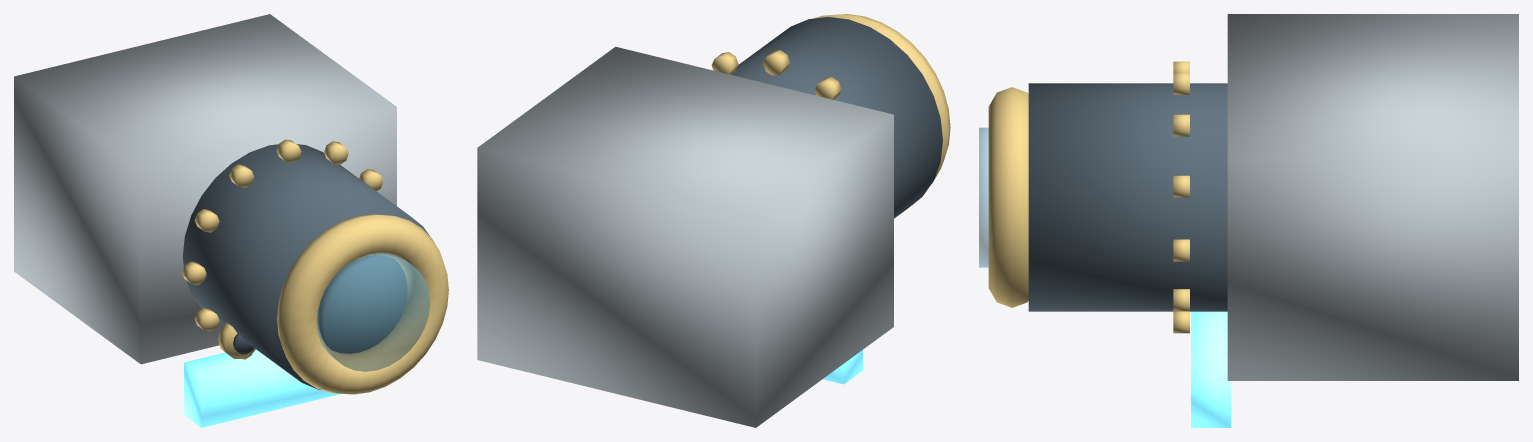
File: 38_L84_StarTrackerOpticalBaffle.glb
The picture shows the model from 3 angles, left to right: view 1: azimuth 30°, elevation 25°; view 2: azimuth 150°, elevation 25°; view 3: azimuth 270°, elevation 25°; orthographic projection. The views are drawn at different scales.
Visible parts, largest first — view 1: L84_StarTrackerOpticalBaffle, L84_StarTrackerOpticalBaffle_Part_0006; view 2: L84_StarTrackerOpticalBaffle; view 3: L84_StarTrackerOpticalBaffle.
Part boxes in pixels (<box>): L84_StarTrackerOpticalBaffle: <box>14,14,448,427</box>; L84_StarTrackerOpticalBaffle_Part_0006: <box>218,322,255,358</box>; L84_StarTrackerOpticalBaffle: <box>477,14,950,427</box>; L84_StarTrackerOpticalBaffle: <box>979,14,1518,427</box>.
Bounding box in the file's own units: 0.92 × 0.922 × 1.46.
